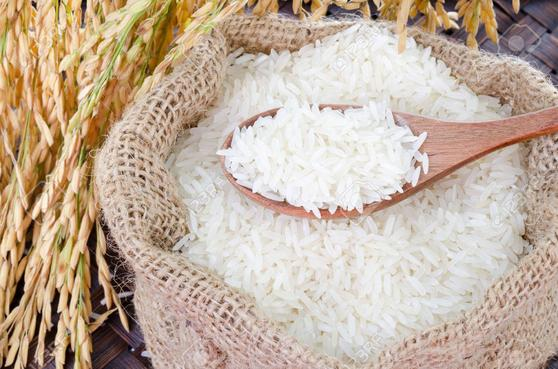rice: (177, 34, 550, 359)
